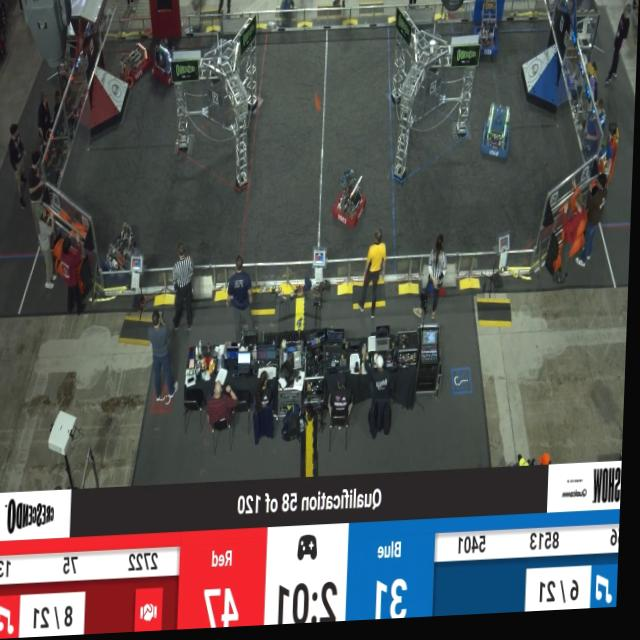Note: (313, 93, 324, 118), (124, 76, 134, 91)
Robot: (97, 218, 145, 292), (333, 170, 371, 239), (152, 28, 190, 90), (473, 0, 504, 70), (480, 105, 513, 168), (119, 33, 151, 93)
